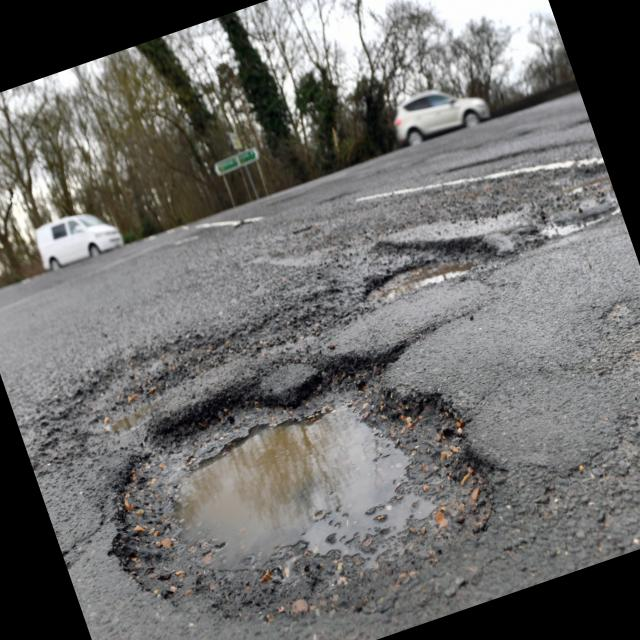Potholes: (82, 296, 504, 640), (338, 160, 626, 319)
